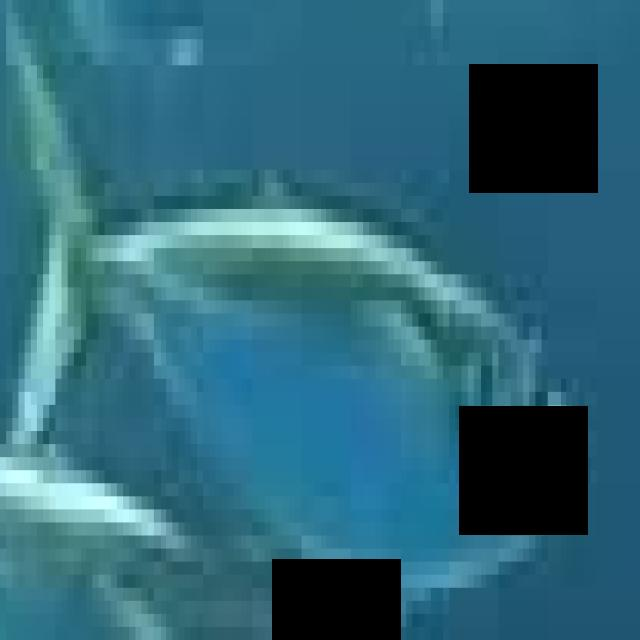fish: (6, 13, 640, 640)
